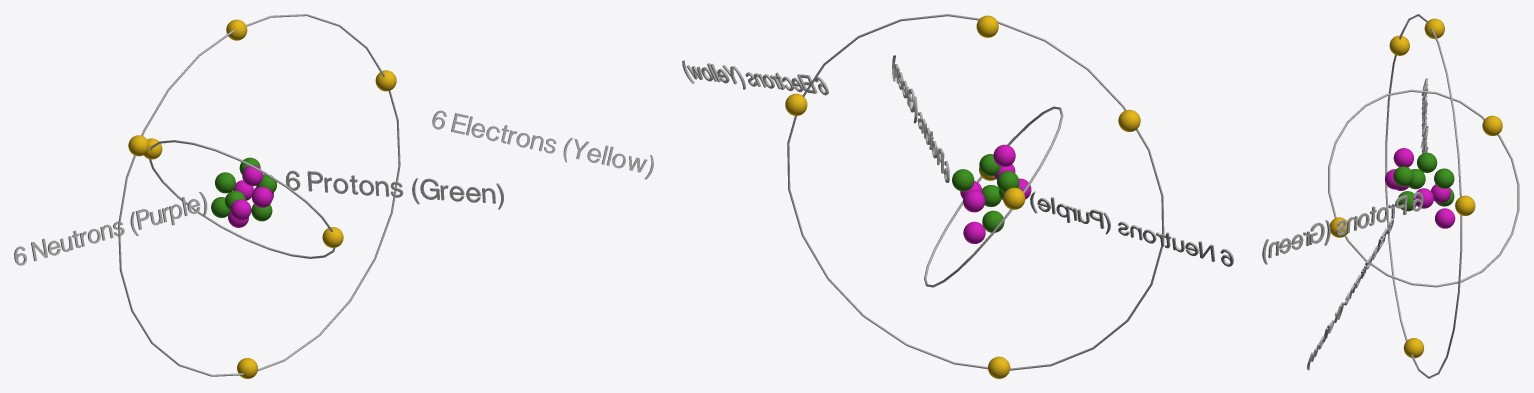
Rendered from atom.obj.
3 views of the same model, side by side, from view 1: azimuth 30°, elevation 25°; view 2: azimuth 150°, elevation 25°; view 3: azimuth 270°, elevation 25° (orthographic). The views are drawn at different scales.
Parts seen in each view (by area): view 1: Torus1, Text2, Text1, Text, Torus; view 2: Torus1, Text1, Text, Text2, Torus; view 3: Text2, Torus1, Torus, Text, Text1, Sphere14, Sphere4, Sphere12, Sphere17, Sphere10, Sphere6, Sphere18 (+7 smaller).
Part boxes in pixels (<box>): Torus1: <box>118,14,400,376</box>; Text2: <box>285,170,503,209</box>; Text1: <box>14,192,207,265</box>; Text: <box>432,110,653,179</box>; Torus: <box>149,140,335,258</box>; Torus1: <box>787,14,1164,370</box>; Text1: <box>1030,191,1233,266</box>; Text: <box>682,60,828,95</box>; Text2: <box>892,55,949,182</box>; Torus: <box>924,106,1063,287</box>; Text2: <box>1262,192,1423,264</box>; Torus1: <box>1385,14,1462,378</box>; Torus: <box>1328,89,1519,287</box>; Text: <box>1307,219,1393,370</box>; Text1: <box>1420,78,1428,172</box>; Sphere14: <box>1482,115,1502,135</box>; Sphere4: <box>1435,208,1455,228</box>; Sphere12: <box>1393,166,1413,186</box>; Sphere17: <box>1455,195,1475,215</box>; Sphere10: <box>1434,168,1454,188</box>; Sphere6: <box>1417,152,1437,172</box>; Sphere18: <box>1389,35,1409,55</box>.
Size of the model in its own units: 31.68 by 18.26 by 12.6.
